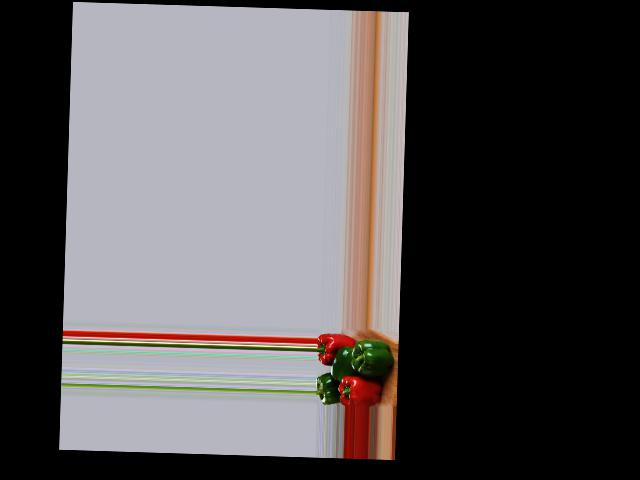bell_pepper: (339, 373, 386, 406)
